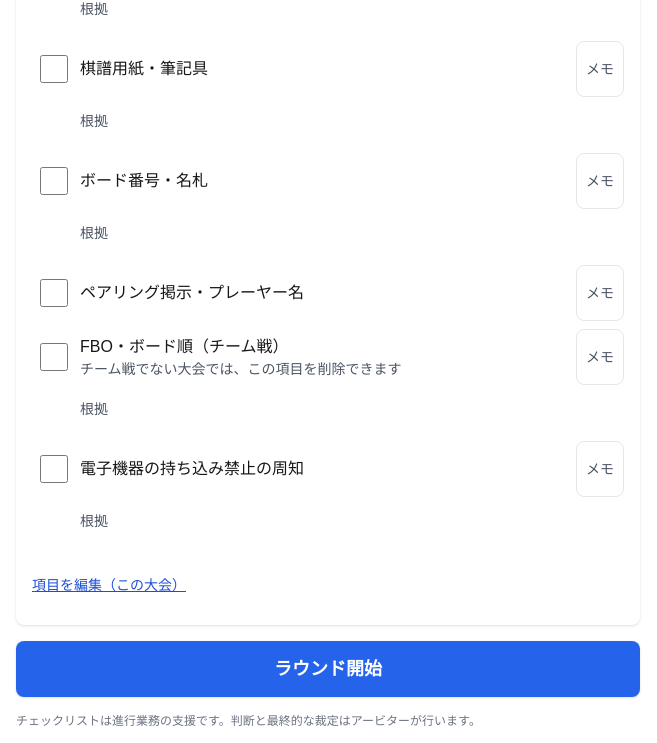
Test: Round Checklist page › start with incomplete pre-round items warns in-page; confirming starts the round and switches to the during phase
(page scrolled)
Step 1. Click the button "ラウンド開始" → (328, 669), box [16, 641, 640, 697]
(page scrolled)
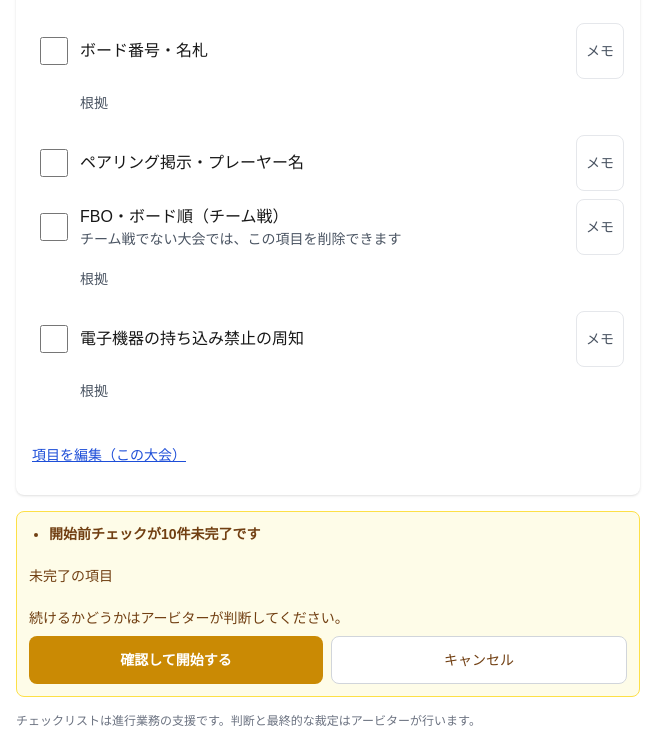
キャンセルでは変更しない
Step 2. Click the button "キャンセル" → (479, 660), box [331, 636, 627, 684]
(page scrolled)
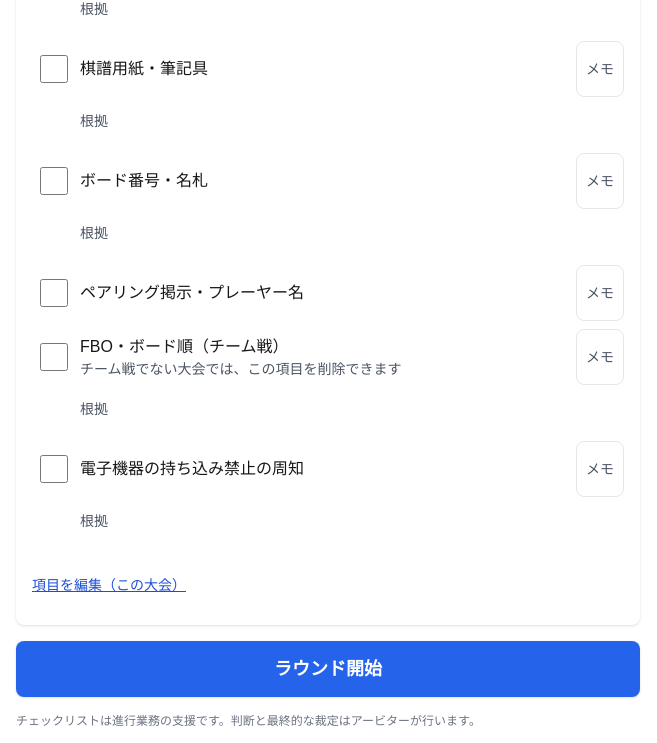
Check: the message "開始前チェックが10件未完了です 未完了の項目 続けるかどうかはアービターが判断してください。 確認して開始する キャンセル" is gone
Step 3. Click the button "ラウンド開始" → (328, 669), box [16, 641, 640, 697]
(page scrolled)
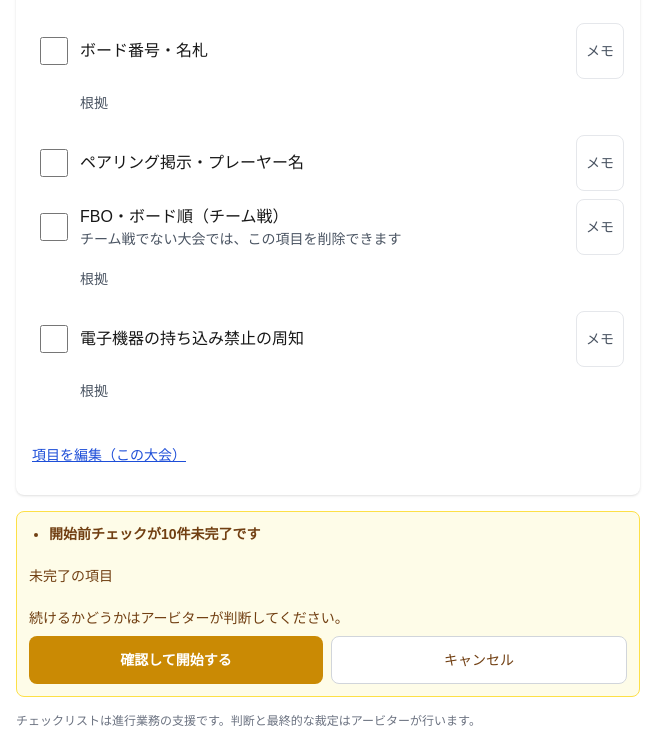
Step 4. Click the button "確認して開始する" → (176, 660), box [29, 636, 323, 684]
(page scrolled)
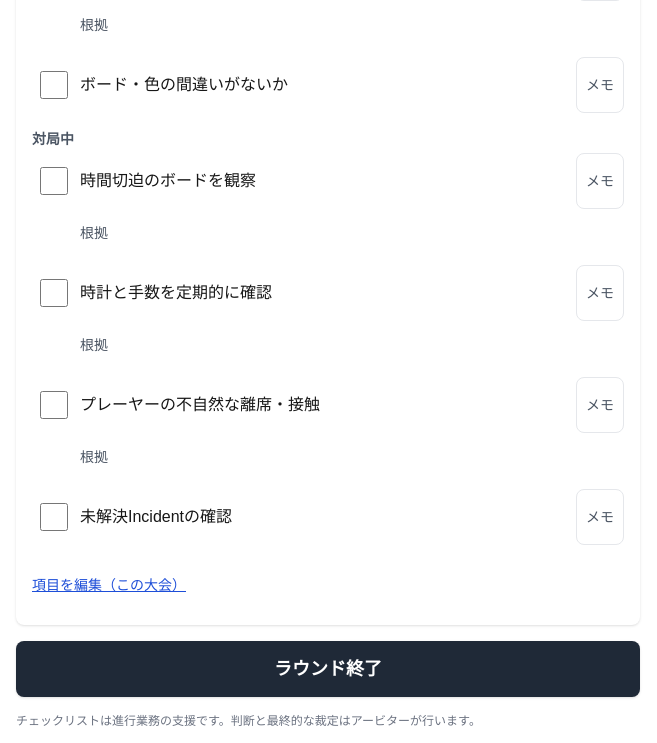
Check: the button "ラウンド終了" is shown, box [16, 641, 640, 697]
